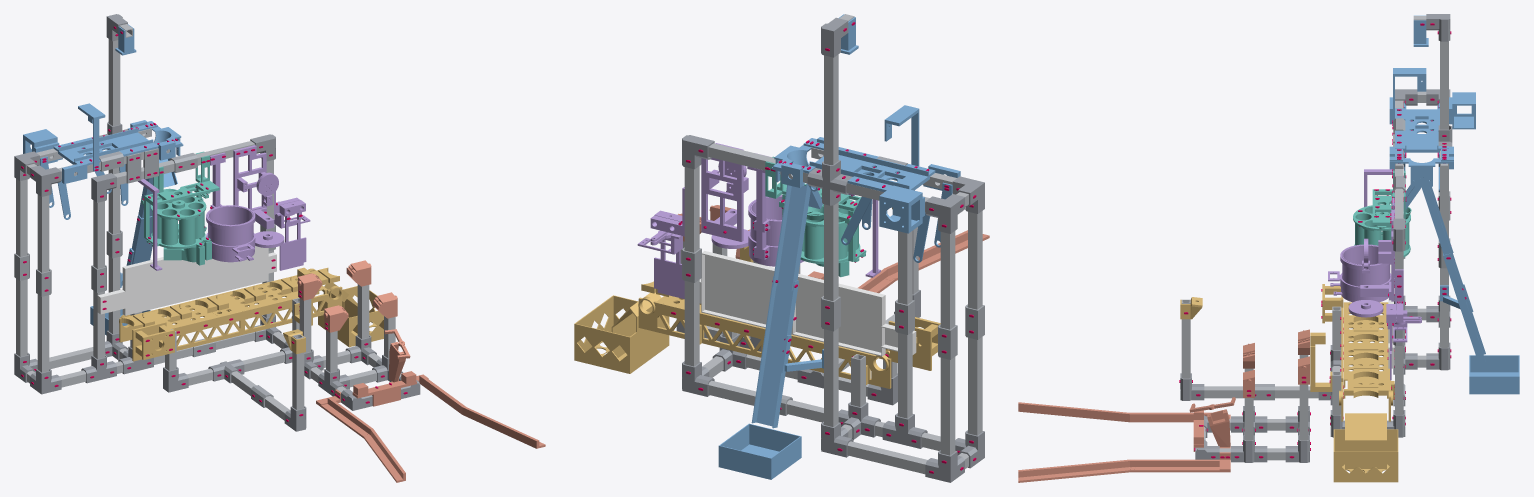
Rendered from maqueta_impresa.glb.
The picture shows the model from 3 angles, left to right: view 1: azimuth 30°, elevation 25°; view 2: azimuth 150°, elevation 25°; view 3: azimuth 270°, elevation 25°; orthographic projection. The views are drawn at different scales.
Visible parts, largest first — view 1: vas_panel_a, vas_panel_b, vas_lat_s_a, tap_tubo, vas_bandeja, alm_tambor, vas_lat_s_b, alm_puente, tap_pre_placa, vas_bancada_b, t_T3-Q2, can_topes (+31 smaller); view 2: vas_panel_a, vas_bandeja, vas_panel_b, mon_canal_b, mon_bandeja, mon_e4, vas_lat_n_b, tap_pre_placa, mon_jaula_nema, vas_lat_n_a, t_T3-Q2, t_F2-T2_2 (+51 smaller); view 3: vas_bandeja, mon_bandeja, vas_bancada_b, mon_e4, tap_tubo, can_guia_v_xp, can_guia_recta_xp, mon_bancada, mon_canal_b, can_guia_v_xn, mon_jaula_nema, alm_tambor (+19 smaller).
Part boxes in pixels (x1,y1,x2,y2): vas_panel_a: (97, 257, 196, 315); vas_panel_b: (197, 246, 276, 298); vas_lat_s_a: (132, 311, 242, 361); tap_tubo: (208, 206, 254, 262); vas_bandeja: (318, 282, 383, 347); alm_tambor: (152, 197, 204, 245); vas_lat_s_b: (242, 286, 342, 334); alm_puente: (144, 151, 219, 205); tap_pre_placa: (233, 145, 266, 210); vas_bancada_b: (212, 276, 327, 316); t_T3-Q2: (108, 39, 120, 126); can_topes: (352, 371, 416, 406); vas_panel_a: (791, 274, 916, 356); vas_bandeja: (574, 292, 669, 373); vas_panel_b: (699, 251, 791, 334); mon_canal_b: (751, 276, 798, 428); mon_bandeja: (718, 423, 801, 479); mon_e4: (771, 144, 822, 291); vas_lat_n_b: (638, 296, 765, 357); tap_pre_placa: (701, 143, 748, 241); mon_jaula_nema: (879, 185, 925, 233); vas_lat_n_a: (764, 328, 891, 388); t_T3-Q2: (824, 54, 838, 164); t_F2-T2_2: (940, 231, 955, 329); vas_bandeja: (1333, 413, 1398, 482); mon_bandeja: (1469, 355, 1519, 394); vas_bancada_b: (1343, 334, 1388, 398); mon_e4: (1389, 158, 1453, 260); tap_tubo: (1341, 245, 1389, 302); can_guia_v_xp: (1018, 459, 1135, 482); can_guia_recta_xp: (1130, 452, 1230, 472); mon_bancada: (1403, 109, 1440, 152); mon_canal_b: (1443, 253, 1485, 363); can_guia_v_xn: (1018, 402, 1129, 422); mon_jaula_nema: (1449, 92, 1475, 129); alm_tambor: (1355, 208, 1409, 250).
Bounding box in the file's own units: 0.7032 × 0.6926 × 0.8976.
